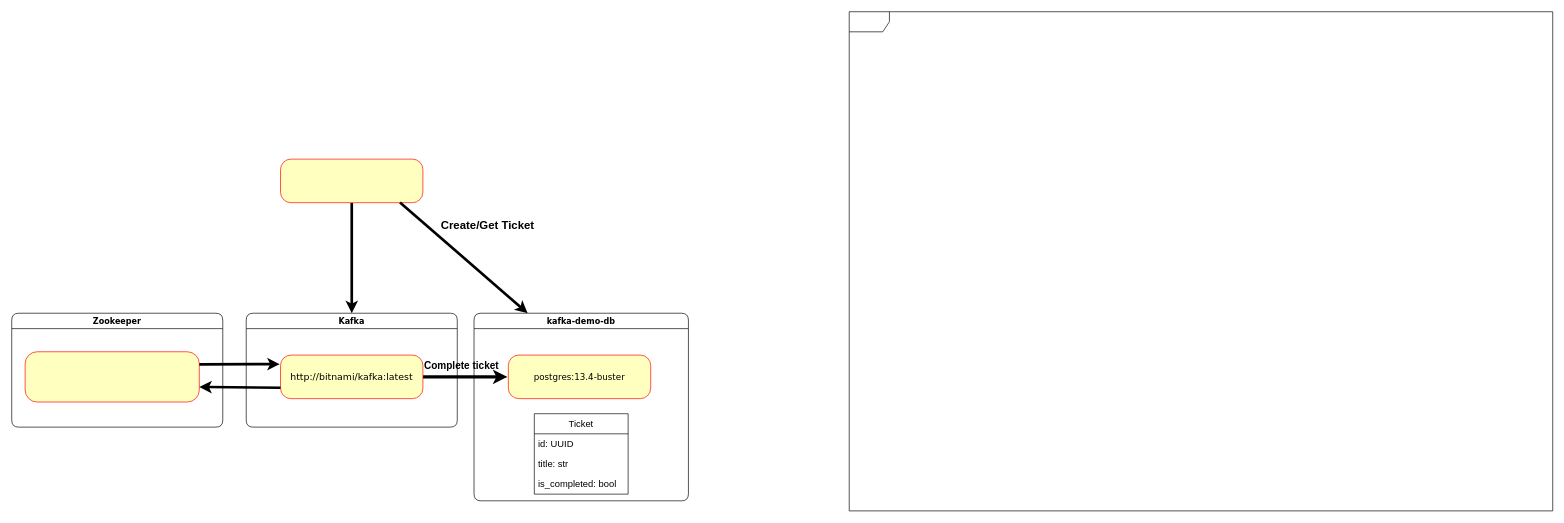
This 1564x523 diagram has some shape labels left out. The shapes that lost their labels are listed below. From the top down, each one's centre as x and y in pixels, then its label:
At [351,180]: "demo-app API".
At [1201,261]: "frame".
At [111,376]: "confluentinc/cp-zookeeper:latest".
